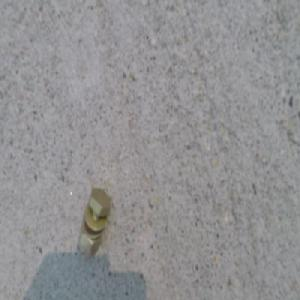BoltNutSet: (78, 185, 111, 258)
